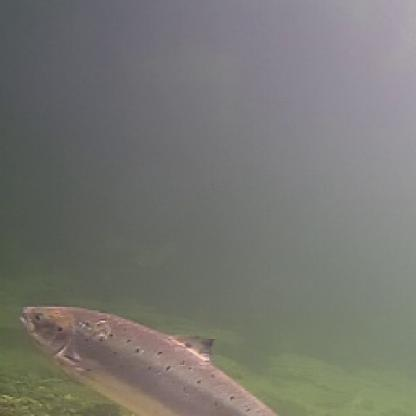salmon: (14, 298, 282, 414)
